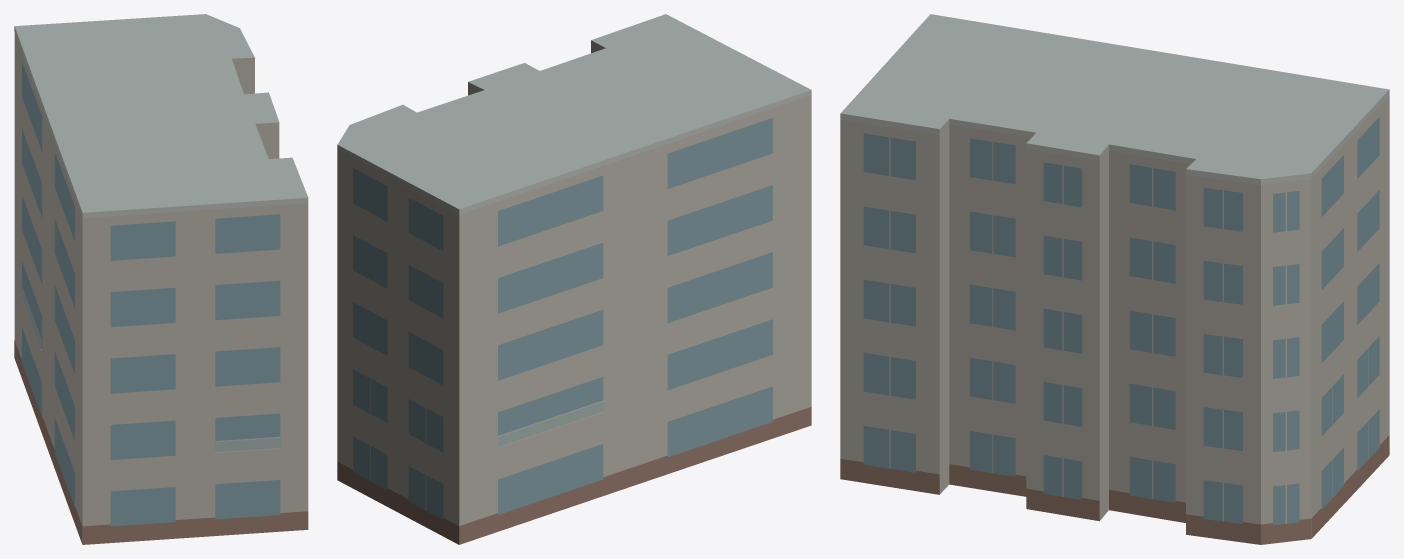
Rendered from survey-upis-32868496.glb.
The picture shows the model from 3 angles, left to right: view 1: azimuth 30°, elevation 25°; view 2: azimuth 150°, elevation 25°; view 3: azimuth 270°, elevation 25°; orthographic projection. The views are drawn at different scales.
Parts seen in each view (by area): view 1: survey-upis-32868496.tmp; view 2: survey-upis-32868496.tmp; view 3: survey-upis-32868496.tmp.
Part boxes in pixels (box(x1,y1,x2,y2)): survey-upis-32868496.tmp: box(14, 14, 308, 544); survey-upis-32868496.tmp: box(337, 14, 811, 544); survey-upis-32868496.tmp: box(840, 14, 1389, 544).
Size of the model in its own units: 14.83 by 15.3 by 20.83.
